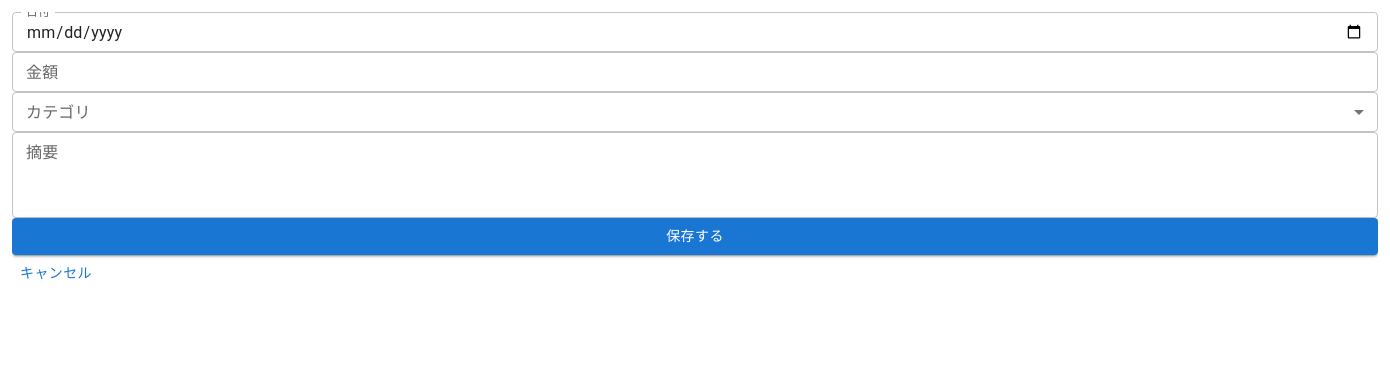
Test: ItemForm › ITM-FE-031: 金額に 0 を入力すると「正の金額を入力してください」エラーが表示される
In the number field labelled "金額": (695,72) 12,52 -> 1378,92, type "0"
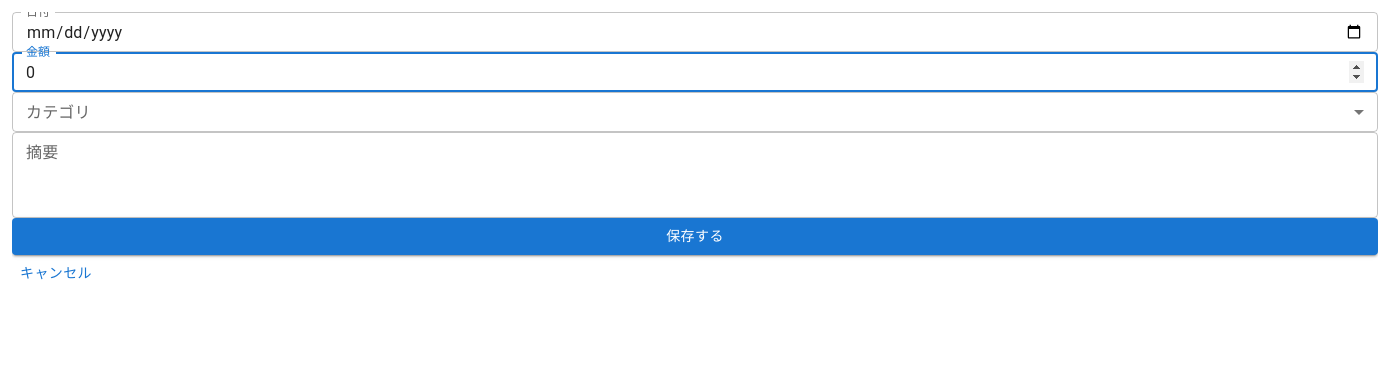
Click the button "保存する": (695,236) 12,218 -> 1378,254
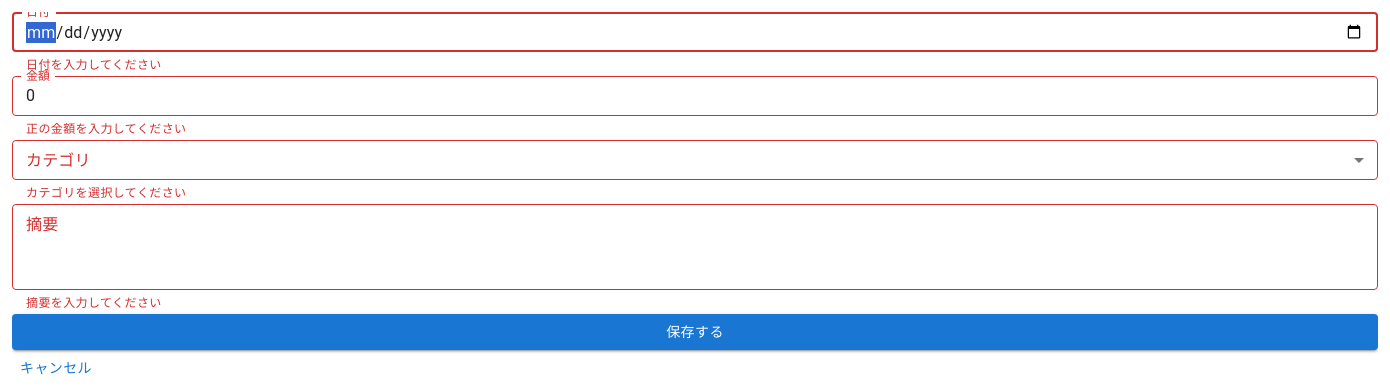
Now the text "正の金額を入力してください" is shown, box 26,122 -> 186,136
